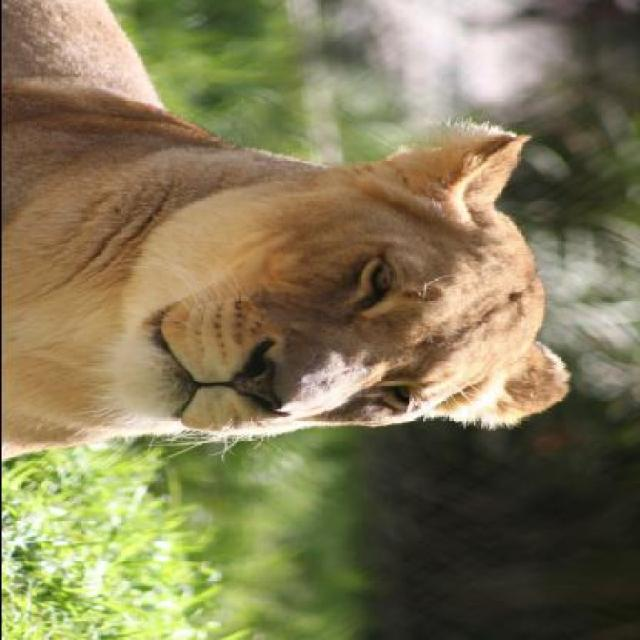Lion: (2, 2, 586, 463)
